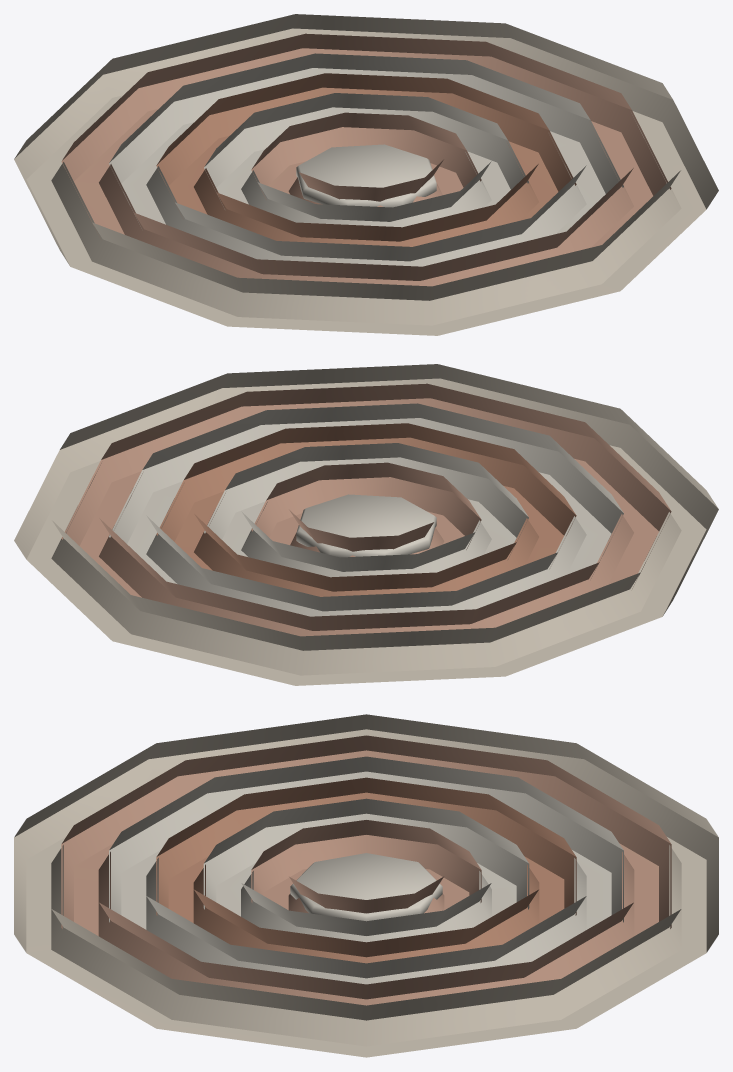
Rendered from braided_rug.glb.
3 views of the same model, one above another, from view 1: azimuth 30°, elevation 25°; view 2: azimuth 150°, elevation 25°; view 3: azimuth 270°, elevation 25° (orthographic). The views are drawn at different scales.
Visible parts, largest first — view 1: braided_rug; view 2: braided_rug; view 3: braided_rug.
Boxes of the visible parts, bbox=[...] form: braided_rug: bbox=[14, 14, 718, 335]; braided_rug: bbox=[14, 364, 718, 685]; braided_rug: bbox=[14, 714, 718, 1057].
Bounding box in the file's own units: 1.56 × 0.0953 × 1.48.
